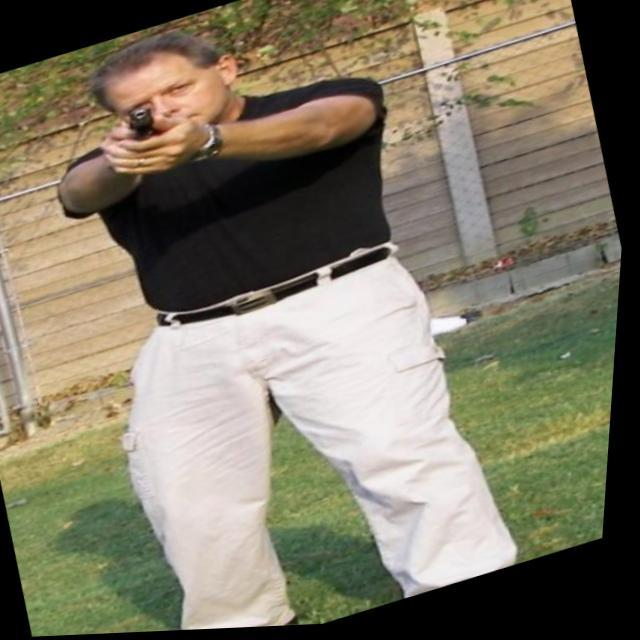weapon: (123, 104, 160, 145)
